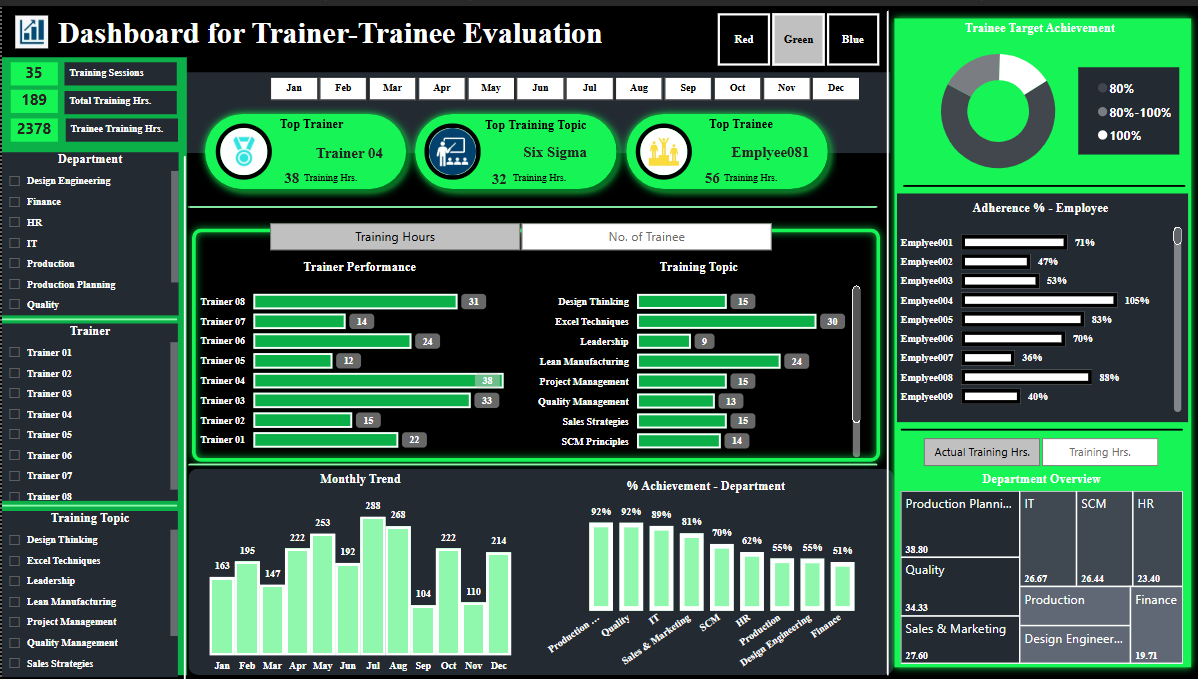

The page's visual inventory and layout, read from the dashboard file:
{"tool":"powerbi","page":{"name":"RGB Dashboard","canvas":[1280,720],"ordinal":0},"visuals":[{"type":"card","fields":{"Values":["CountNonNull(tbl_TrainingRecords.Training Hrs.)"]},"box":[10,60,50,25],"z":0,"group":"g2"},{"type":"group","id":"g1","title":"Group 2","box":[207.5,105.7,235.2,100.2],"z":0,"group":"g3"},{"type":"shape","box":[207.5,105.7,235.2,100.2],"z":0,"group":"g1"},{"type":"shape","box":[432.2,105.7,235.5,100],"z":0,"group":"g4"},{"type":"shape","box":[657,105.7,235.5,100],"z":0,"group":"g5"},{"type":"shape","box":[194.8,229.4,751.7,265.5],"z":0},{"type":"card","fields":{"Values":["Sum(tbl_TrainingRecords.Training Hrs.)"]},"box":[10,90,50,25],"z":1000,"group":"g2"},{"type":"image","box":[228.3,126.1,60,60],"z":1000,"group":"g1"},{"type":"image","box":[451.9,126.2,60,60],"z":1000,"group":"g4"},{"type":"image","box":[677,126.2,60,60],"z":1000,"group":"g5"},{"type":"card","fields":{"Values":["Min(tbl_TrainingRecords.Trainer)"]},"box":[325.6,144.2,93.3,28.8],"z":1000,"group":"g3"},{"type":"shape","box":[199.1,494.9,754.6,220.7],"z":1000},{"type":"shape","box":[194.8,70.7,754.6,86.6],"z":2000},{"type":"textbox","box":[291.2,115.9,79.6,30.2],"z":2000,"group":"g1"},{"type":"textbox","box":[744.2,116,91.4,32.9],"z":2000,"group":"g5"},{"type":"card","fields":{"Values":["Sum(tbl_TraineeRecords.Training Hrs.)"]},"box":[10,120,50,25],"z":2000,"group":"g2"},{"type":"card","fields":{"Values":["Min(tbl_TrainingRecords.Training Topic)"]},"box":[533.7,141.7,115.7,31.4],"z":2000,"group":"g4"},{"type":"card","fields":{"Values":["Sum(tbl_TrainingRecords.Training Hrs.)"]},"box":[291.9,171.6,37.1,28.6],"z":2000,"group":"g3"},{"type":"shape","box":[946.5,5.8,333.3,709.8],"z":3000},{"type":"textbox","box":[68,60,120,25],"z":3000,"group":"g2"},{"type":"textbox","box":[534.4,172.2,82.9,20.7],"z":3000,"group":"g4"},{"type":"textbox","box":[759.2,172.2,82.9,20.7],"z":3000,"group":"g5"},{"type":"textbox","box":[310.5,173,82.9,20.7],"z":3000,"group":"g3"},{"type":"shape","box":[0,54.8,197.7,660.8],"z":4000},{"type":"textbox","box":[68,90.2,120,25],"z":4000,"group":"g2"},{"type":"card","fields":{"Values":["Sum(tbl_TrainingRecords.Training Hrs.)"]},"box":[503.7,164.5,58.6,44.3],"z":4000,"group":"g4"},{"type":"card","fields":{"Values":["Sum(tbl_TraineeRecords.Training Hrs.)"]},"box":[732.8,168.8,51.4,34.3],"z":4000,"group":"g5"},{"type":"textbox","box":[488,117.2,165.7,24.3],"z":5000,"group":"g4"},{"type":"textbox","box":[68.5,120,120,25],"z":5000,"group":"g2"},{"type":"card","fields":{"Values":["Min(tbl_TraineeRecords.Employee Name)"]},"box":[751.3,141.7,138.6,31.4],"z":5000,"group":"g5"},{"type":"clusteredBarChart","title":"Trainer Performance","fields":{"Category":["tbl_TrainingRecords.Trainer"],"Y":["Ref_Trainer.Trainer Slicer"]},"box":[209.7,271.4,345,210],"z":5000},{"type":"clusteredColumnChart","title":"Monthly Trend","fields":{"Y":["Sum(tbl_TraineeRecords.Training Hrs.)"],"Category":["tbl_TrainingRecords.Month Name"]},"box":[211.4,498.6,344.3,217.1],"z":6000},{"type":"clusteredColumnChart","title":"% Achievement - Department","fields":{"Category":["tbl_EmpDatabase.Department"],"Y":["tbl_EmpDatabase.Adherence %"]},"box":[580,505,344.8,210.6],"z":7000},{"type":"slicer","fields":{"Values":["Ref_Department.Option"]},"box":[964.3,460,290,34.3],"z":8000},{"type":"image","box":[10,5,45,45],"z":9000},{"type":"slicer","fields":{"Values":["Ref_Trainer.Option"]},"box":[265.7,230,575.7,32.9],"z":10000},{"type":"textbox","box":[54.3,5.7,634.3,60],"z":11000},{"type":"clusteredBarChart","title":"Training Topic","fields":{"Y":["Ref_Trainer.Trainer Slicer"],"Category":["tbl_TrainingRecords.Training Topic"]},"box":[571.4,271.4,345.7,211.4],"z":12000},{"type":"group","id":"g2","title":"M1","box":[10,60,178.5,85],"z":13000},{"type":"group","id":"g3","title":"Oval 1","box":[207.5,105.7,235.2,100.2],"z":14000},{"type":"group","id":"g4","title":"Oval 2","box":[432.2,105.7,235.5,103.1],"z":15000},{"type":"group","id":"g5","title":"Oval 3","box":[657,105.7,235.5,100],"z":16000},{"type":"shape","box":[1150.6,65.5,108.2,93.5],"z":16500},{"type":"donutChart","title":"Trainee Target Achievement","fields":{"Category":["tbl_EmpDatabase.Status"],"Y":["CountNonNull(tbl_EmpDatabase.Employee ID)"]},"box":[960,15.7,300,172.9],"z":17000},{"type":"shape","box":[960.9,444.4,301.5,15.9],"z":18000},{"type":"treemap","title":"Department Overview","fields":{"Group":["tbl_EmpDatabase.Department"],"Values":["Ref_Department.Depart Slicer"]},"box":[960.3,498.5,301.5,204.4],"z":19000},{"type":"slicer","title":"Department","fields":{"Values":["tbl_EmpDatabase.Department"]},"box":[0,155.7,188.6,174.3],"z":20000},{"type":"slicer","title":"Trainer","fields":{"Values":["tbl_TraineeRecords.Trainer"]},"box":[0,339.7,188.2,189.7],"z":21000},{"type":"slicer","title":"Training Topic","fields":{"Values":["tbl_TraineeRecords.Training Topic"]},"box":[0,539.7,188.2,177.9],"z":22000},{"type":"shape","box":[934.3,5.7,25.7,710],"z":23000},{"type":"shape","box":[190.4,160.1,8.7,559.8],"z":24000},{"type":"shape","box":[956.8,200.4,311.4,244.5],"z":24500},{"type":"clusteredBarChart","title":"Adherence % - Employee","fields":{"Category":["tbl_EmpDatabase.Employee Name"],"Y":["tbl_EmpDatabase.Adherence %"]},"box":[960,208.6,301.4,225.7],"z":25000},{"type":"slicer","title":"Department","fields":{"Values":["tbl_TrainingRecords.Month Name"]},"box":[266,73,670,29],"z":26000},{"type":"shape","box":[198.6,208.6,737.1,12.9],"z":27000},{"type":"shape","box":[198.6,484.3,737.1,12.9],"z":28000},{"type":"shape","box":[963.8,184.7,301.5,15.9],"z":29000},{"type":"slicer","title":"Department","fields":{"Values":["Color_Flag.Color"]},"box":[744.3,5.3,212.5,60.1],"z":30000},{"type":"shape","box":[0,331.8,187.6,7.2],"z":31000},{"type":"shape","box":[0,530.9,187.6,7.2],"z":32000}]}

Visuals, with their boxes in screenshot pixels (x1, y1, x2, y2), scaled from the page's 1280x720 canvas onto the 1198x679 screenshot:
card - CountNonNull(tbl_TrainingRecords.Training Hrs.): 9,57,56,80
"Group 2" group: 194,100,414,194
shape: 194,100,414,194
shape: 405,100,625,194
shape: 615,100,835,194
shape: 182,216,886,467
card - Sum(tbl_TrainingRecords.Training Hrs.): 9,85,56,108
image: 214,119,270,176
image: 423,119,479,176
image: 634,119,690,176
card - Min(tbl_TrainingRecords.Trainer): 305,136,392,163
shape: 186,467,893,675
shape: 182,67,889,148
textbox: 273,109,347,138
textbox: 697,109,782,140
card - Sum(tbl_TraineeRecords.Training Hrs.): 9,113,56,137
card - Min(tbl_TrainingRecords.Training Topic): 500,134,608,163
card - Sum(tbl_TrainingRecords.Training Hrs.): 273,162,308,189
shape: 886,5,1197,675
textbox: 64,57,176,80
textbox: 500,162,578,182
textbox: 711,162,788,182
textbox: 291,163,368,183
shape: 0,52,185,675
textbox: 64,85,176,109
card - Sum(tbl_TrainingRecords.Training Hrs.): 471,155,526,197
card - Sum(tbl_TraineeRecords.Training Hrs.): 686,159,734,192
textbox: 457,111,612,133
textbox: 64,113,176,137
card - Min(tbl_TraineeRecords.Employee Name): 703,134,833,163
"Trainer Performance" clusteredBarChart: 196,256,519,454
"Monthly Trend" clusteredColumnChart: 198,470,520,675
"% Achievement - Department" clusteredColumnChart: 543,476,866,675
slicer - Ref_Department.Option: 903,434,1174,466
image: 9,5,51,47
slicer - Ref_Trainer.Option: 249,217,787,248
textbox: 51,5,644,62
"Training Topic" clusteredBarChart: 535,256,858,455
"M1" group: 9,57,176,137
"Oval 1" group: 194,100,414,194
"Oval 2" group: 405,100,625,197
"Oval 3" group: 615,100,835,194
shape: 1077,62,1178,150
"Trainee Target Achievement" donutChart: 898,15,1179,178
shape: 899,419,1182,434
"Department Overview" treemap: 899,470,1181,663
"Department" slicer: 0,147,177,311
"Trainer" slicer: 0,320,176,499
"Training Topic" slicer: 0,509,176,677
shape: 874,5,898,675
shape: 178,151,186,678
shape: 896,189,1187,420
"Adherence % - Employee" clusteredBarChart: 898,197,1181,410
"Department" slicer: 249,69,876,96
shape: 186,197,876,209
shape: 186,457,876,469
shape: 902,174,1184,189
"Department" slicer: 697,5,896,62
shape: 0,313,176,320
shape: 0,501,176,507
